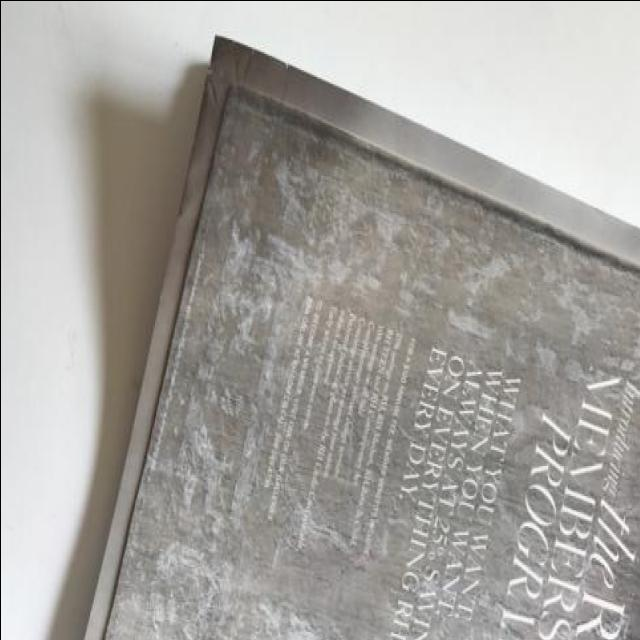kertas: (77, 30, 640, 640)
